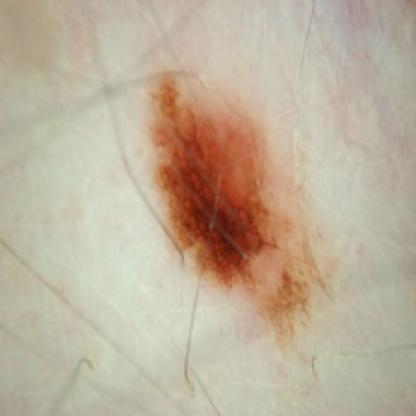malignant: (141, 70, 342, 346)
